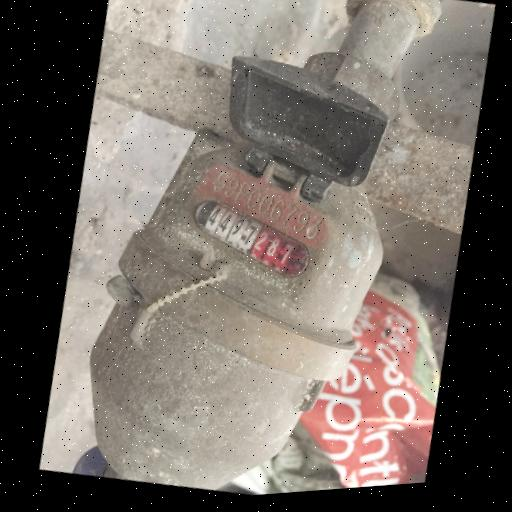2: (246, 222, 276, 264)
4: (198, 198, 228, 239), (211, 204, 240, 244)
7: (283, 244, 315, 285), (270, 234, 301, 276), (233, 216, 263, 257)
8: (258, 229, 287, 271)
9: (222, 210, 250, 250)
border_water_meter_number: (178, 180, 326, 296)
